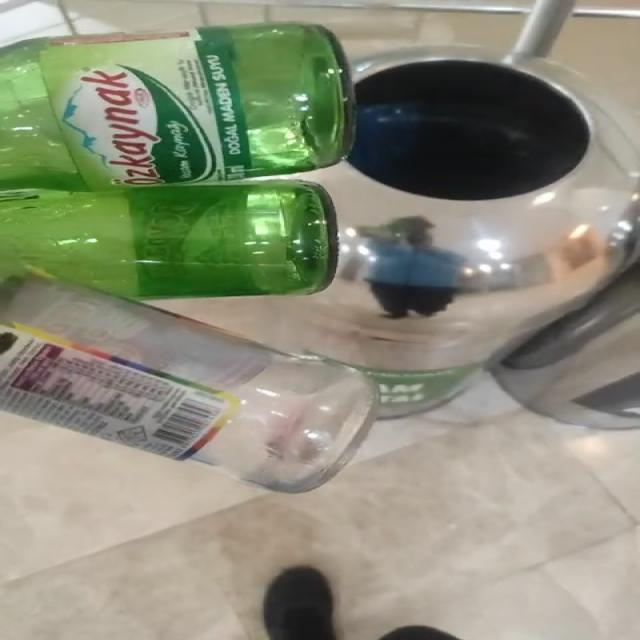glass: (1, 23, 376, 493)
